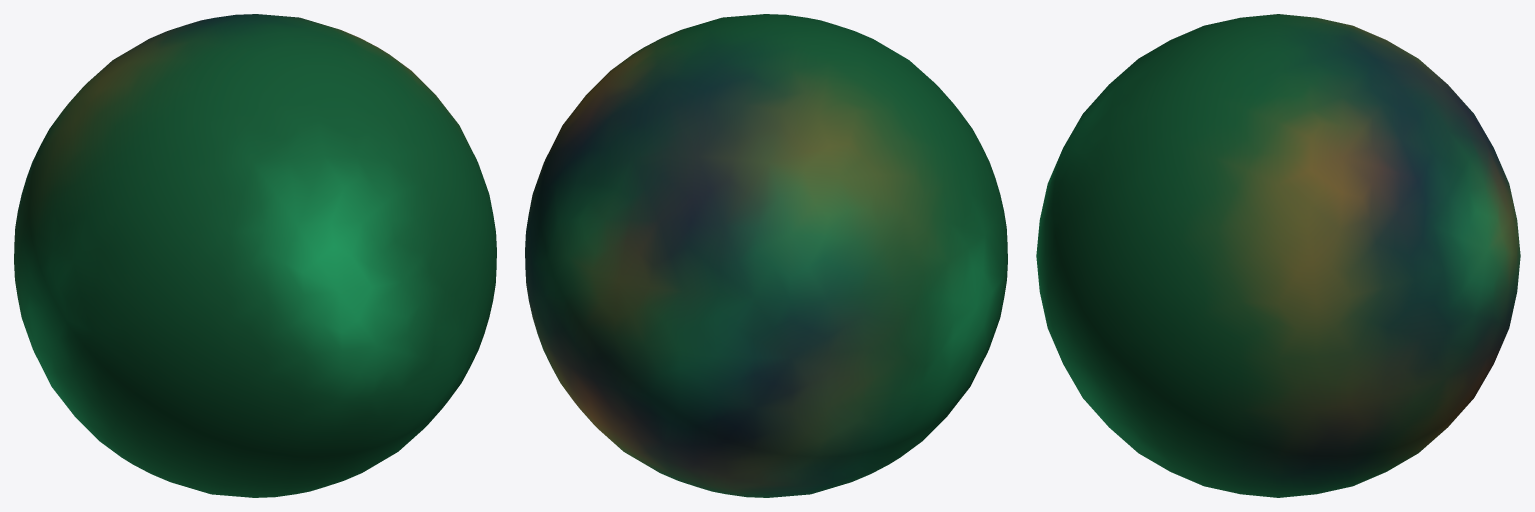
File: Ball.FBX
3 views of the same model, side by side, from view 1: azimuth 30°, elevation 25°; view 2: azimuth 150°, elevation 25°; view 3: azimuth 270°, elevation 25° (orthographic).
Visible parts, largest first — view 1: GeoSphere001; view 2: GeoSphere001; view 3: GeoSphere001.
Boxes of the visible parts, x1,y1,x2,y2 form: GeoSphere001: [14, 14, 496, 497]; GeoSphere001: [525, 14, 1007, 497]; GeoSphere001: [1036, 14, 1520, 497].
Size of the model in its own units: 209 by 209 by 209.
